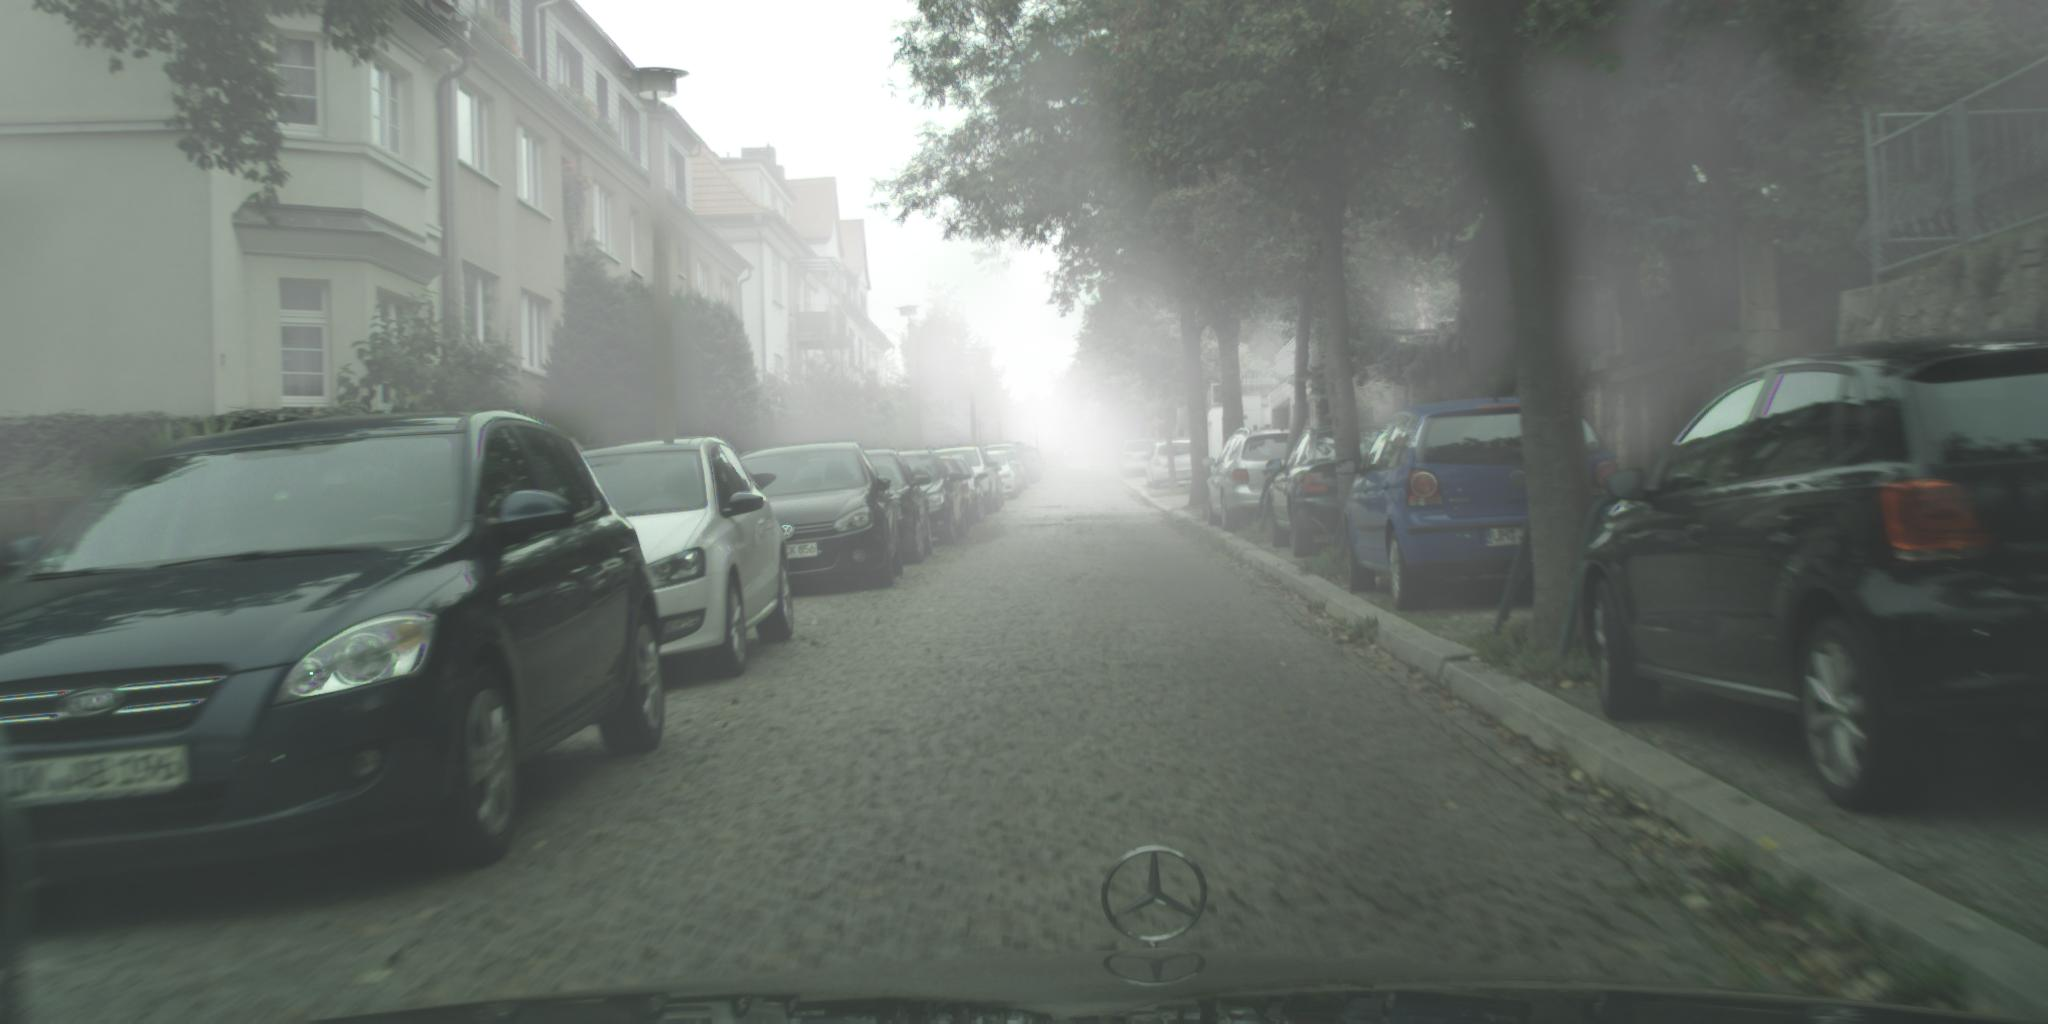car: (1, 410, 666, 882), (1578, 330, 2048, 815), (1334, 397, 1620, 610), (579, 436, 795, 680), (711, 441, 904, 590), (1266, 424, 1415, 559), (1202, 428, 1297, 533), (859, 451, 934, 566), (887, 445, 967, 545), (930, 445, 999, 516), (929, 456, 973, 537), (938, 457, 987, 529), (1142, 440, 1198, 491), (978, 449, 1023, 500), (1118, 439, 1159, 478), (993, 449, 1031, 490), (985, 466, 1004, 515), (1061, 449, 1092, 472)
